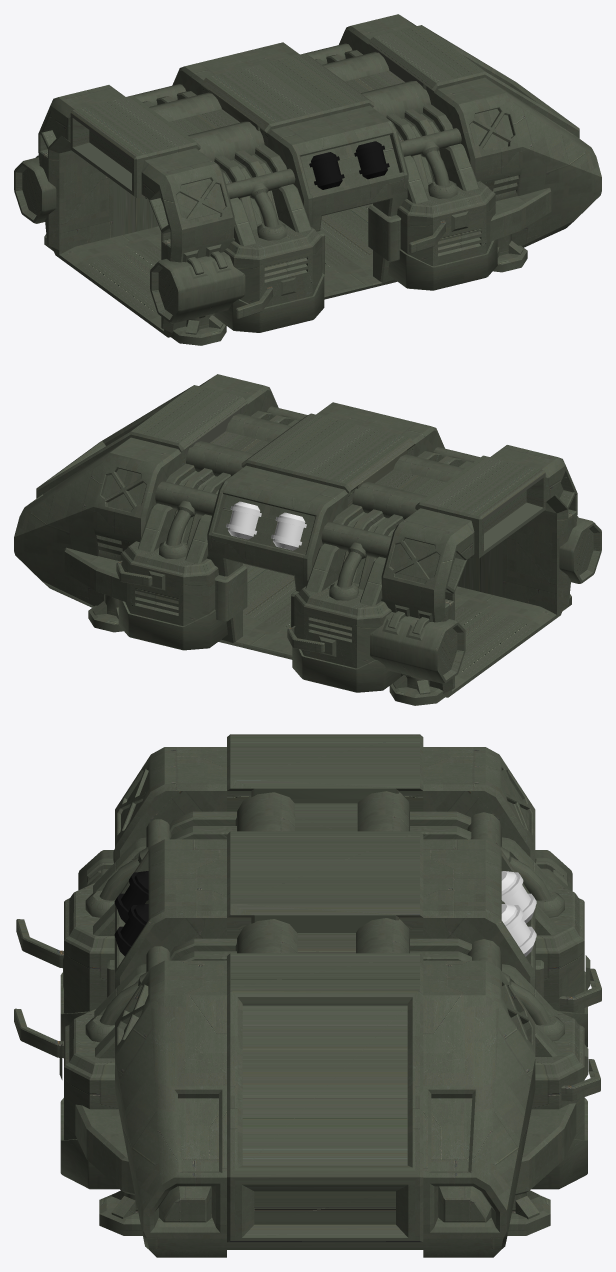
File: ship.fbx
3 renders of one model, top to bottom at view 1: azimuth 30°, elevation 25°; view 2: azimuth 150°, elevation 25°; view 3: azimuth 270°, elevation 25°, orthographic. The views are drawn at different scales.
Parts seen in each view (by area): view 1: Object001, Cylinder026, Engine_Top_Fornt_Right, Engine_Top_Bckr_Right, Engine_Bottom_Front_Right, Engine_Bottom_Back_Right, Object049, Object055, Box011, Cylinder104, Cylinder102, Box038 (+18 smaller); view 2: Object001, Cylinder026, Engine_Top_Fornt_Right, Engine_Top_Bckr_Right, Engine_Bottom_Front_Right, Engine_Bottom_Back_Right, Object049, Box011, Object055, Cylinder105, Cylinder103, Cylinder044 (+16 smaller); view 3: Object001, Engine_Top_Bckr_Right, Engine_Top_Fornt_Right, Box011, Object049, Engine_Bottom_Front_Right, Object055, Cylinder104, Object075, Cylinder105, Cylinder102, Cylinder103 (+14 smaller).
Part boxes in pixels (bbox=[...]): Object001: bbox=[38, 14, 601, 337]; Cylinder026: bbox=[14, 157, 245, 323]; Engine_Top_Fornt_Right: bbox=[397, 181, 495, 266]; Engine_Top_Bckr_Right: bbox=[224, 219, 322, 307]; Engine_Bottom_Front_Right: bbox=[388, 239, 497, 290]; Engine_Bottom_Back_Right: bbox=[215, 273, 324, 332]; Object049: bbox=[142, 91, 286, 229]; Object055: bbox=[315, 50, 452, 188]; Box011: bbox=[490, 187, 551, 241]; Cylinder104: bbox=[188, 121, 264, 161]; Cylinder102: bbox=[361, 81, 430, 118]; Box038: bbox=[368, 205, 400, 262]; Object001: bbox=[14, 374, 577, 697]; Cylinder026: bbox=[370, 517, 601, 683]; Engine_Top_Fornt_Right: bbox=[120, 541, 218, 625]; Engine_Top_Bckr_Right: bbox=[294, 580, 391, 668]; Engine_Bottom_Front_Right: bbox=[118, 600, 227, 650]; Engine_Bottom_Back_Right: bbox=[292, 647, 401, 692]; Object049: bbox=[333, 451, 473, 589]; Box011: bbox=[64, 547, 126, 602]; Object055: bbox=[166, 410, 300, 549]; Cylinder105: bbox=[352, 482, 426, 519]; Cylinder103: bbox=[186, 441, 253, 476]; Cylinder044: bbox=[321, 522, 391, 558]; Object001: bbox=[114, 734, 535, 1257]; Engine_Top_Bckr_Right: bbox=[64, 882, 584, 1013]; Engine_Top_Fornt_Right: bbox=[64, 1009, 584, 1139]; Box011: bbox=[75, 1103, 576, 1195]; Object049: bbox=[169, 811, 471, 839]; Engine_Bottom_Front_Right: bbox=[60, 1098, 587, 1189]; Object055: bbox=[170, 938, 471, 960]; Cylinder104: bbox=[235, 792, 294, 831]; Object075: bbox=[99, 1194, 550, 1235]; Cylinder105: bbox=[357, 791, 409, 831]; Cylinder102: bbox=[235, 919, 297, 953]; Cylinder103: bbox=[356, 918, 409, 953].
Bounding box in the file's own units: 1588 × 554 × 1199.
